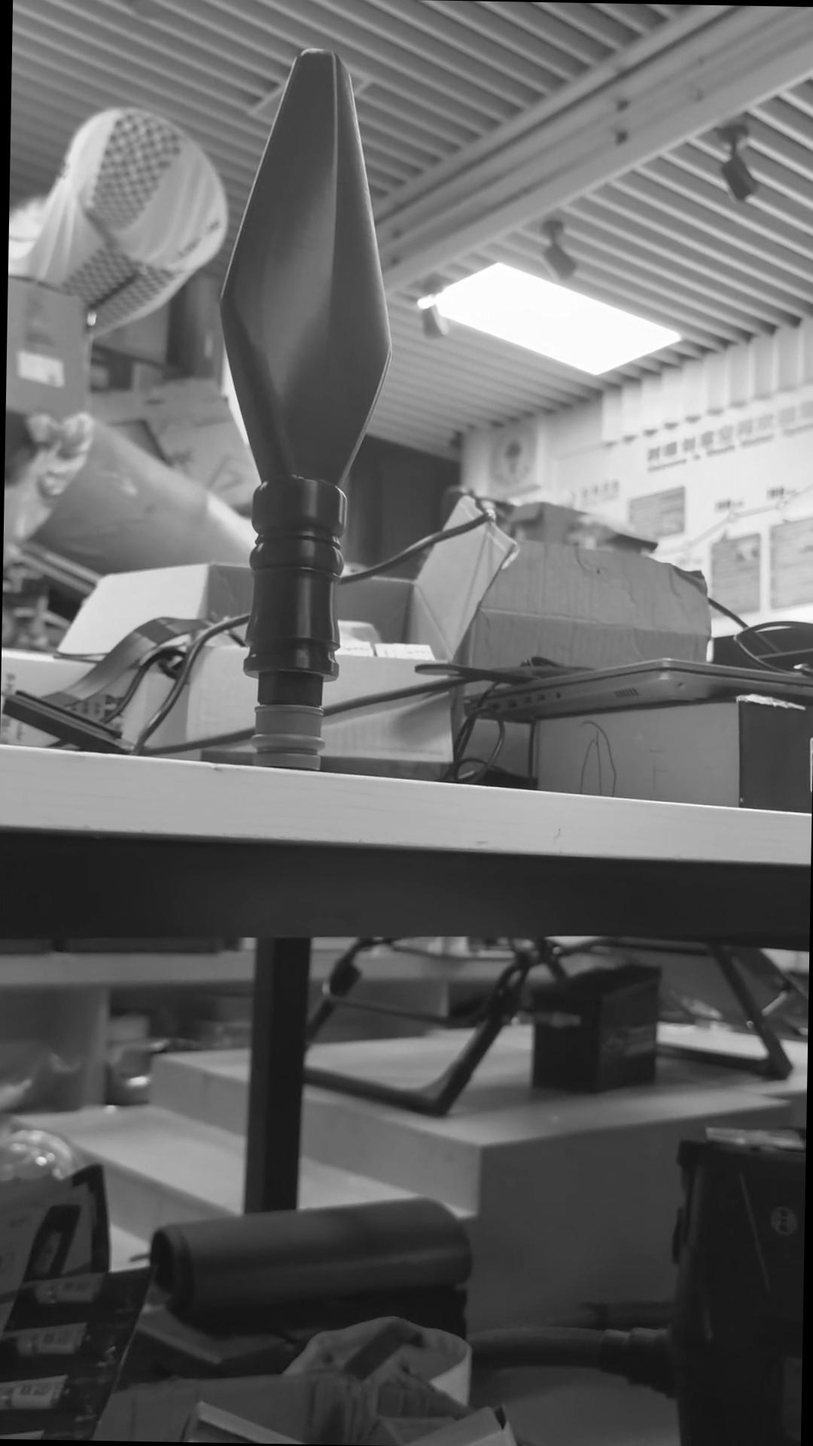base: (250, 698, 326, 764)
